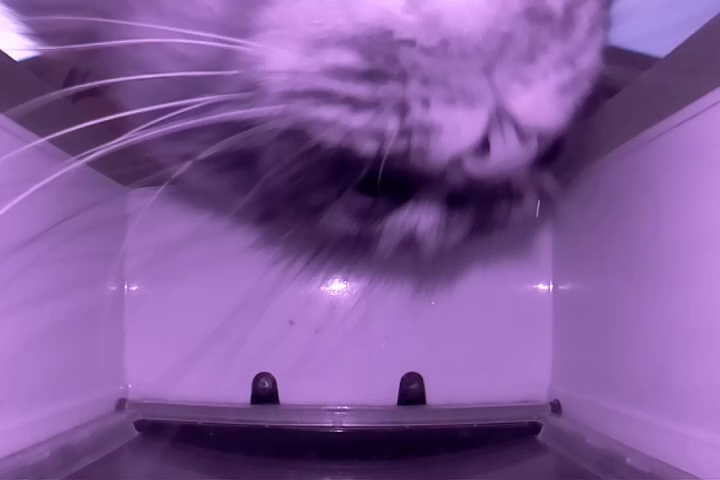Snout: (384, 13, 564, 187)
